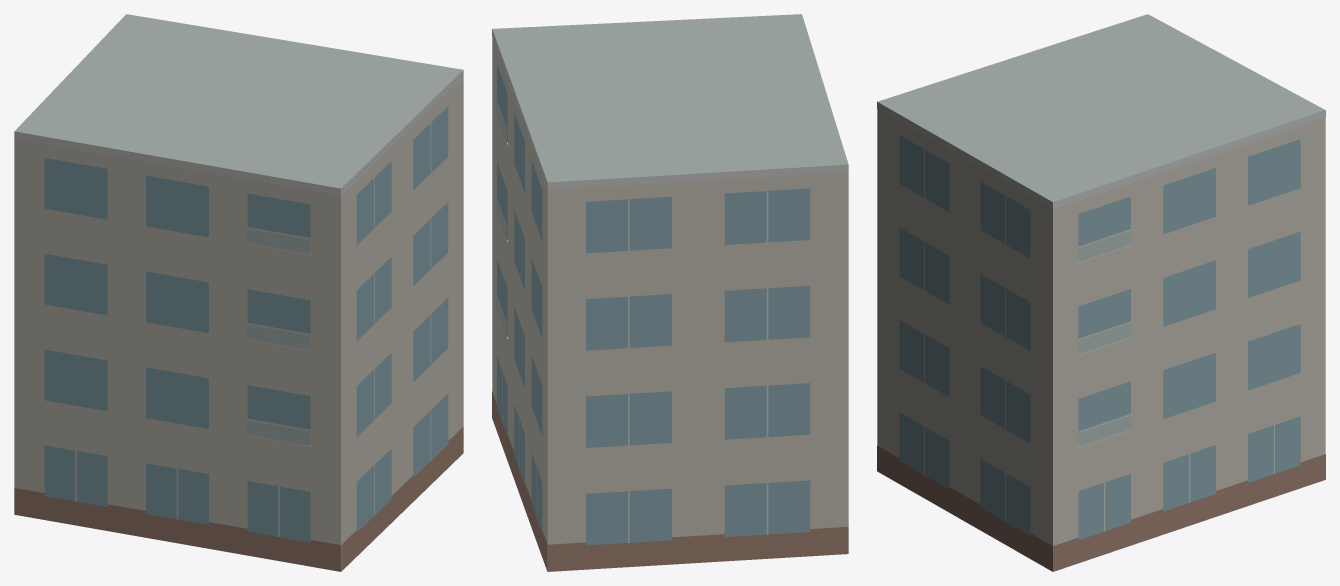
File: survey-upis-32780037.glb
The picture shows the model from 3 angles, left to right: view 1: azimuth 30°, elevation 25°; view 2: azimuth 150°, elevation 25°; view 3: azimuth 270°, elevation 25°; orthographic projection. The views are drawn at different scales.
Visible parts, largest first — view 1: survey-upis-32780037.tmp; view 2: survey-upis-32780037.tmp; view 3: survey-upis-32780037.tmp.
Boxes of the visible parts, x1,y1,x2,y2 form: survey-upis-32780037.tmp: (14, 14, 463, 571); survey-upis-32780037.tmp: (492, 14, 848, 571); survey-upis-32780037.tmp: (877, 14, 1325, 571).
Size of the model in its own units: 13.55 by 12.4 by 13.65.
